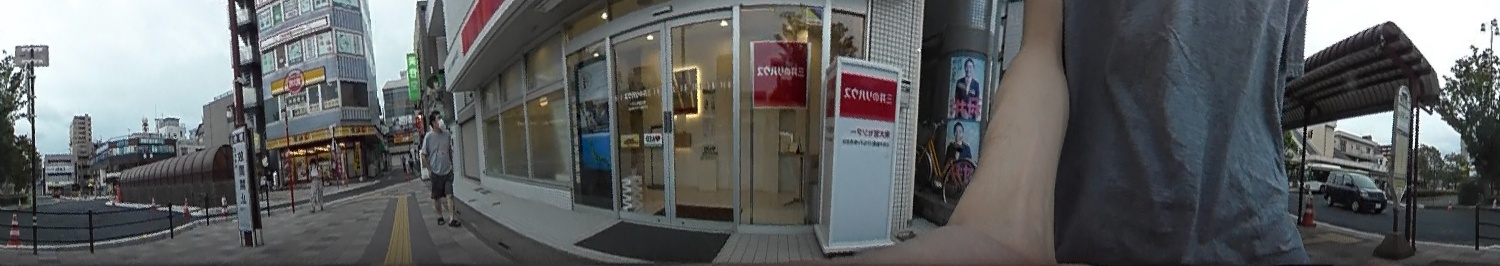person: (419, 111, 460, 226), (306, 160, 326, 212)
